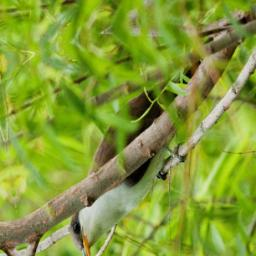Cuckoo: (45, 23, 243, 256)
